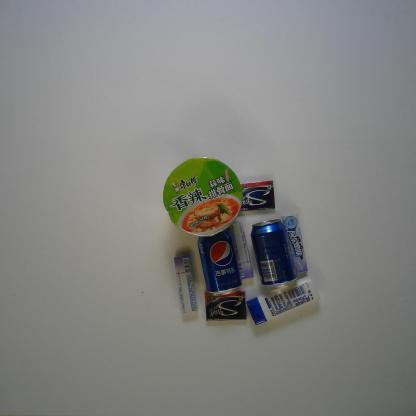Candy: (226, 220, 254, 281), (282, 214, 308, 273), (174, 254, 198, 314)
Drink: (250, 217, 298, 291), (197, 228, 243, 296)
Gum: (204, 290, 247, 322), (232, 180, 274, 211)
Instant Noodles: (162, 156, 243, 237)
Personal Hygiene: (246, 276, 320, 326)
